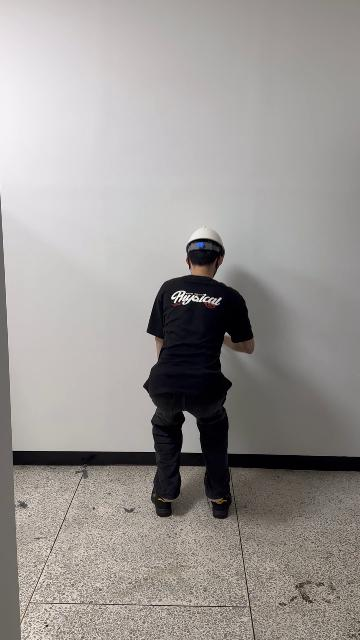helmet_worn: (185, 226, 226, 256)
shoe_worn: (151, 484, 174, 519), (209, 490, 234, 521)
vest_not_worn: (158, 280, 232, 415)
